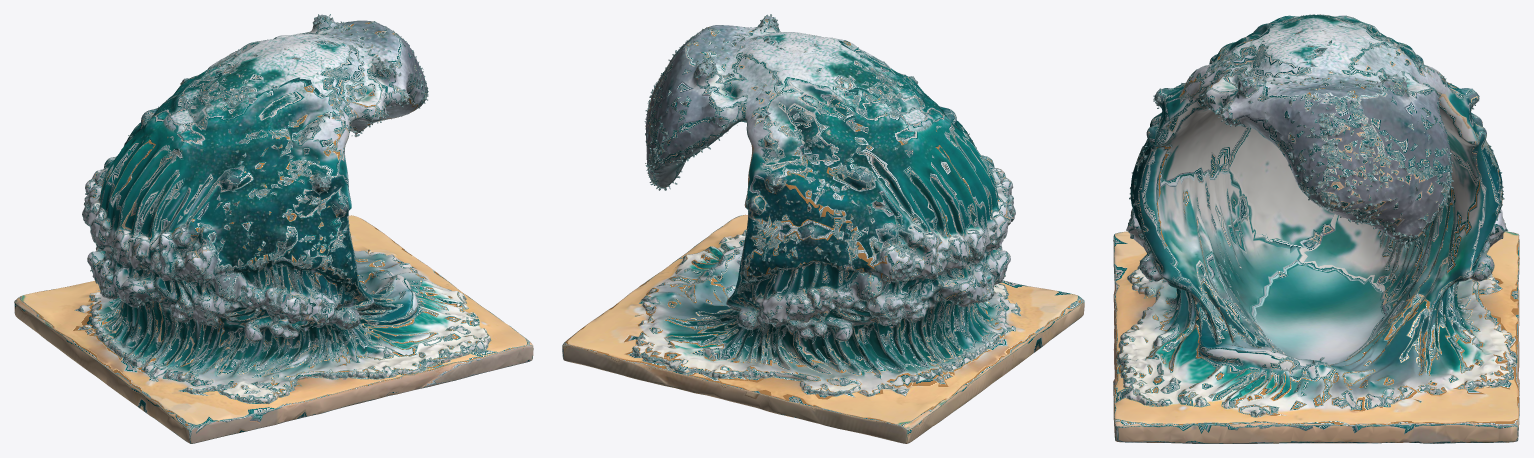
Rendered from wave_sculpture.glb.
3 renders of one model, left to right at view 1: azimuth 30°, elevation 25°; view 2: azimuth 150°, elevation 25°; view 3: azimuth 270°, elevation 25°, orthographic. The views are drawn at different scales.
Visible parts, largest first — view 1: world; view 2: world; view 3: world.
Part boxes in pixels (x1,y1,x2,y2): world: [14, 14, 533, 443]; world: [562, 14, 1084, 443]; world: [1113, 14, 1519, 443].
Bounding box in the file's own units: 1.99 × 1.57 × 1.76.
Materials: 1 (1 with a texture image).
